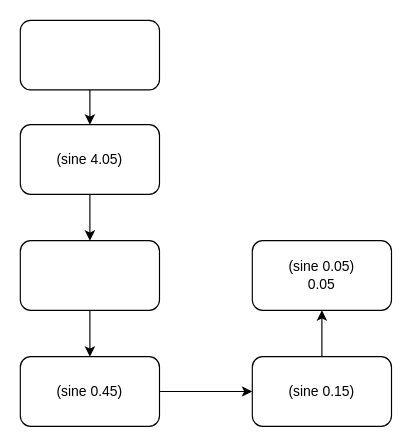
Image size: 412x447. Some labels were removed from this diagram. The box of each missing label's shape, as (x1, y1, x2, y2) in pixels:
(sine 1.35): (19, 240, 160, 310)
(sine 12.15): (19, 19, 160, 90)
